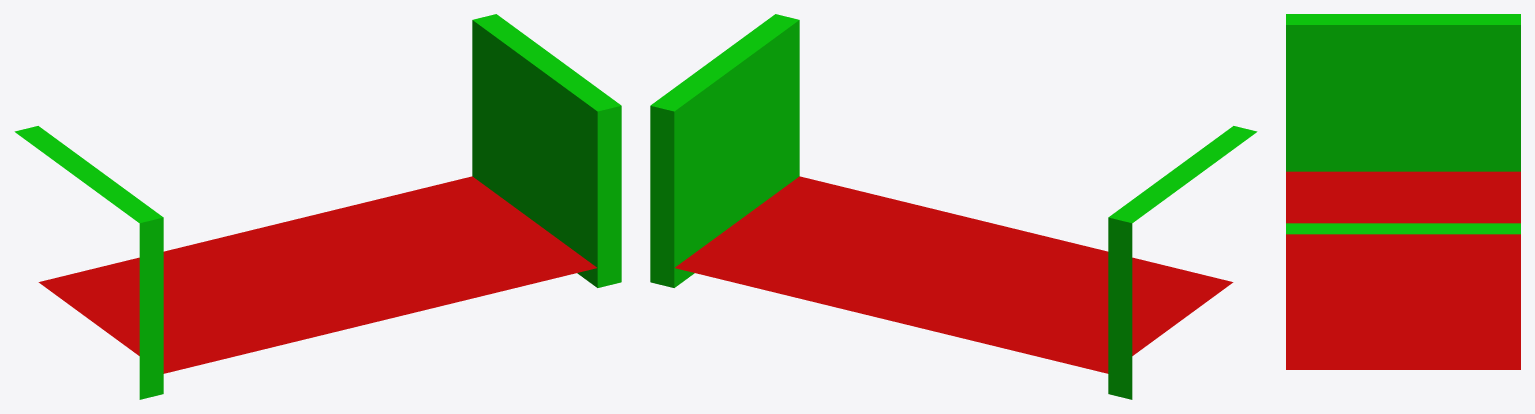
The model's file is door_frame_cut.glb.
3 views of the same model, side by side, from view 1: azimuth 30°, elevation 25°; view 2: azimuth 150°, elevation 25°; view 3: azimuth 270°, elevation 25° (orthographic). The views are drawn at different scales.
Parts seen in each view (by area): view 1: door_frame_cut; view 2: door_frame_cut; view 3: door_frame_cut.
Part boxes in pixels (<box>): door_frame_cut: <box>14,14,621,399</box>; door_frame_cut: <box>650,14,1257,399</box>; door_frame_cut: <box>1286,14,1520,369</box>.
Bounding box in the file's own units: 1 × 0.35 × 0.45.
